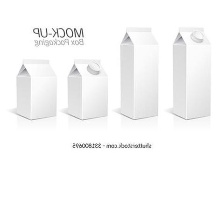carton: (116, 23, 162, 119), (168, 23, 213, 115), (61, 56, 111, 123), (12, 55, 59, 126)
